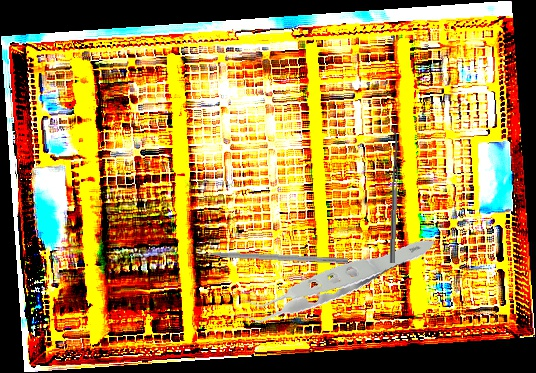Chopper: (189, 241, 349, 265)
Spatula Surgical: (384, 128, 400, 264)
Tissue Forceps: (225, 205, 436, 352)
